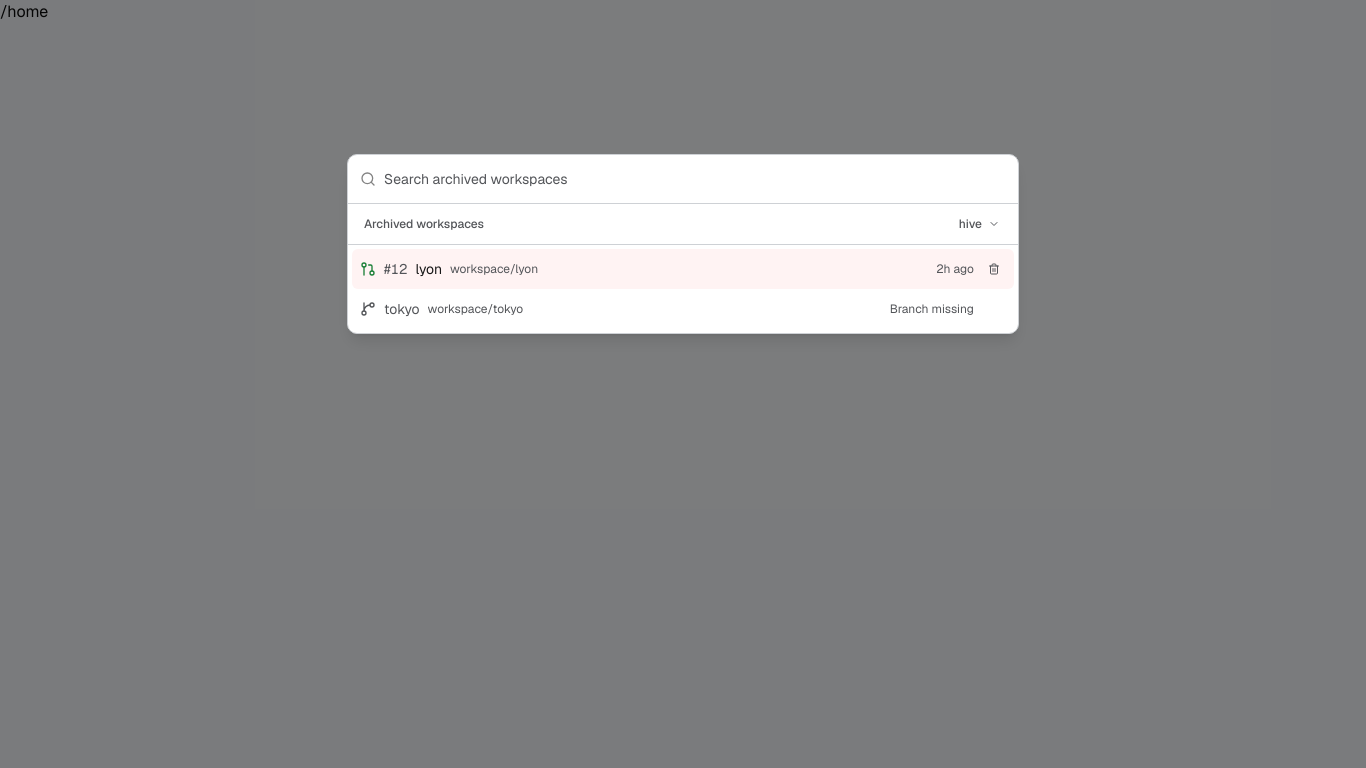
it: RestoreWorkspaceDialog › deletes the archive on confirm and drops the row after refetch
Click the button named "Delete lyon".
click(994, 269)  # box [982,257,1006,281]
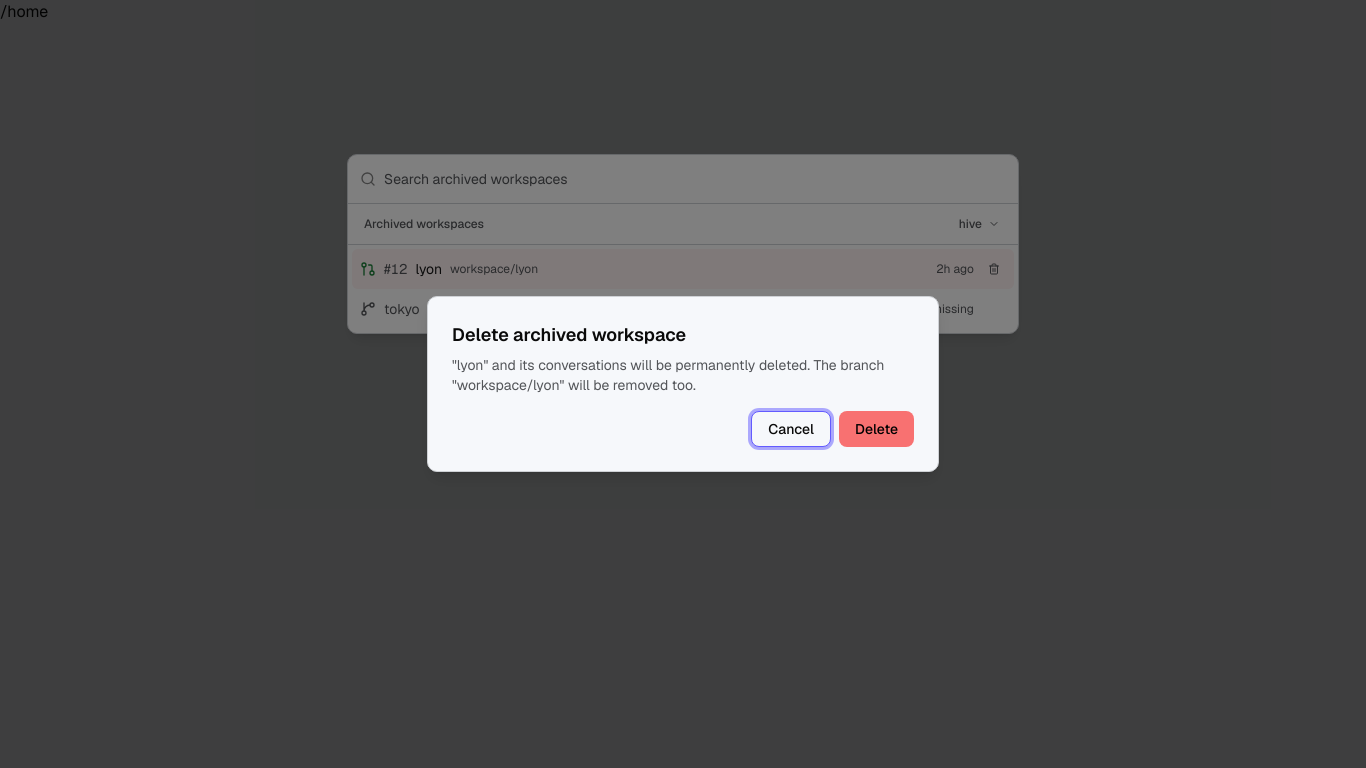
Click the button "Delete".
click(876, 429)  # box [839,411,914,447]
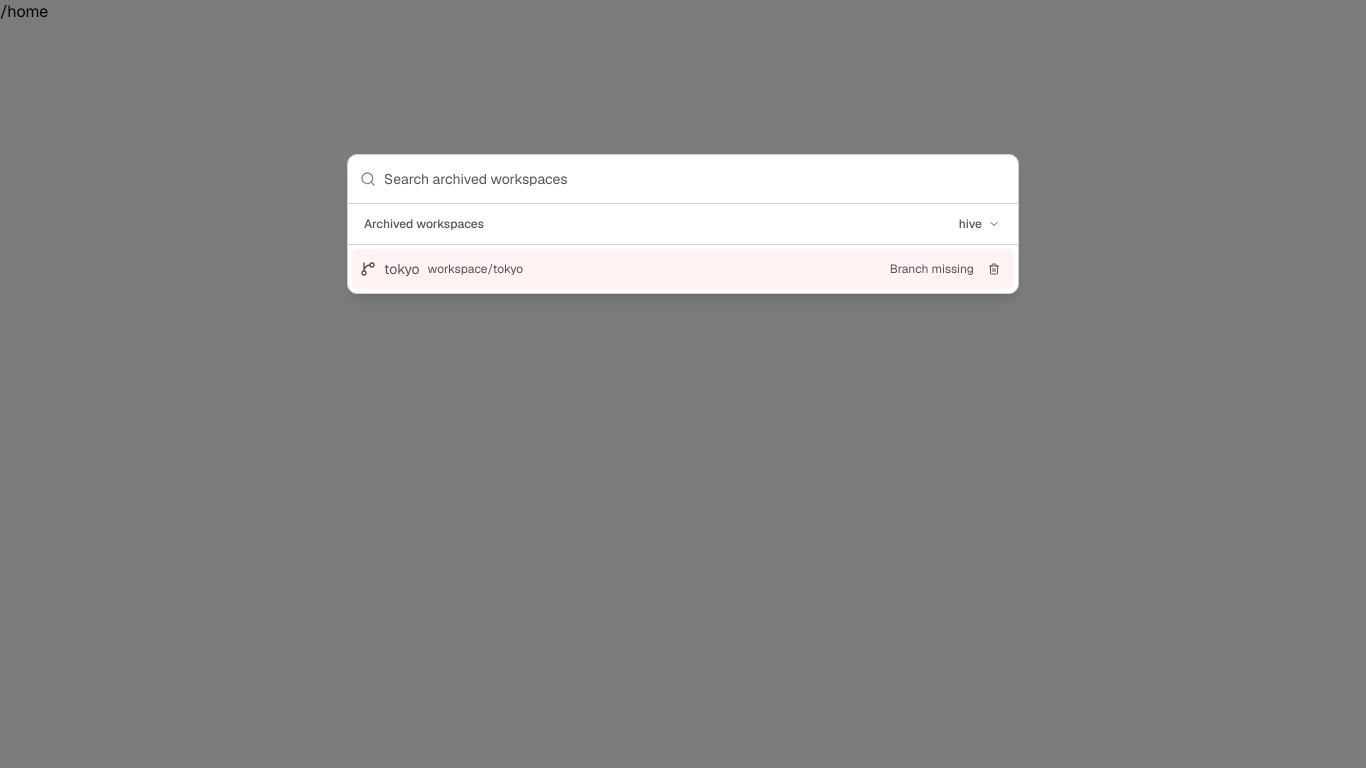
Check: the text "tokyo" is shown, box [384,259,420,279]
Check: the option "lyon" is gone
